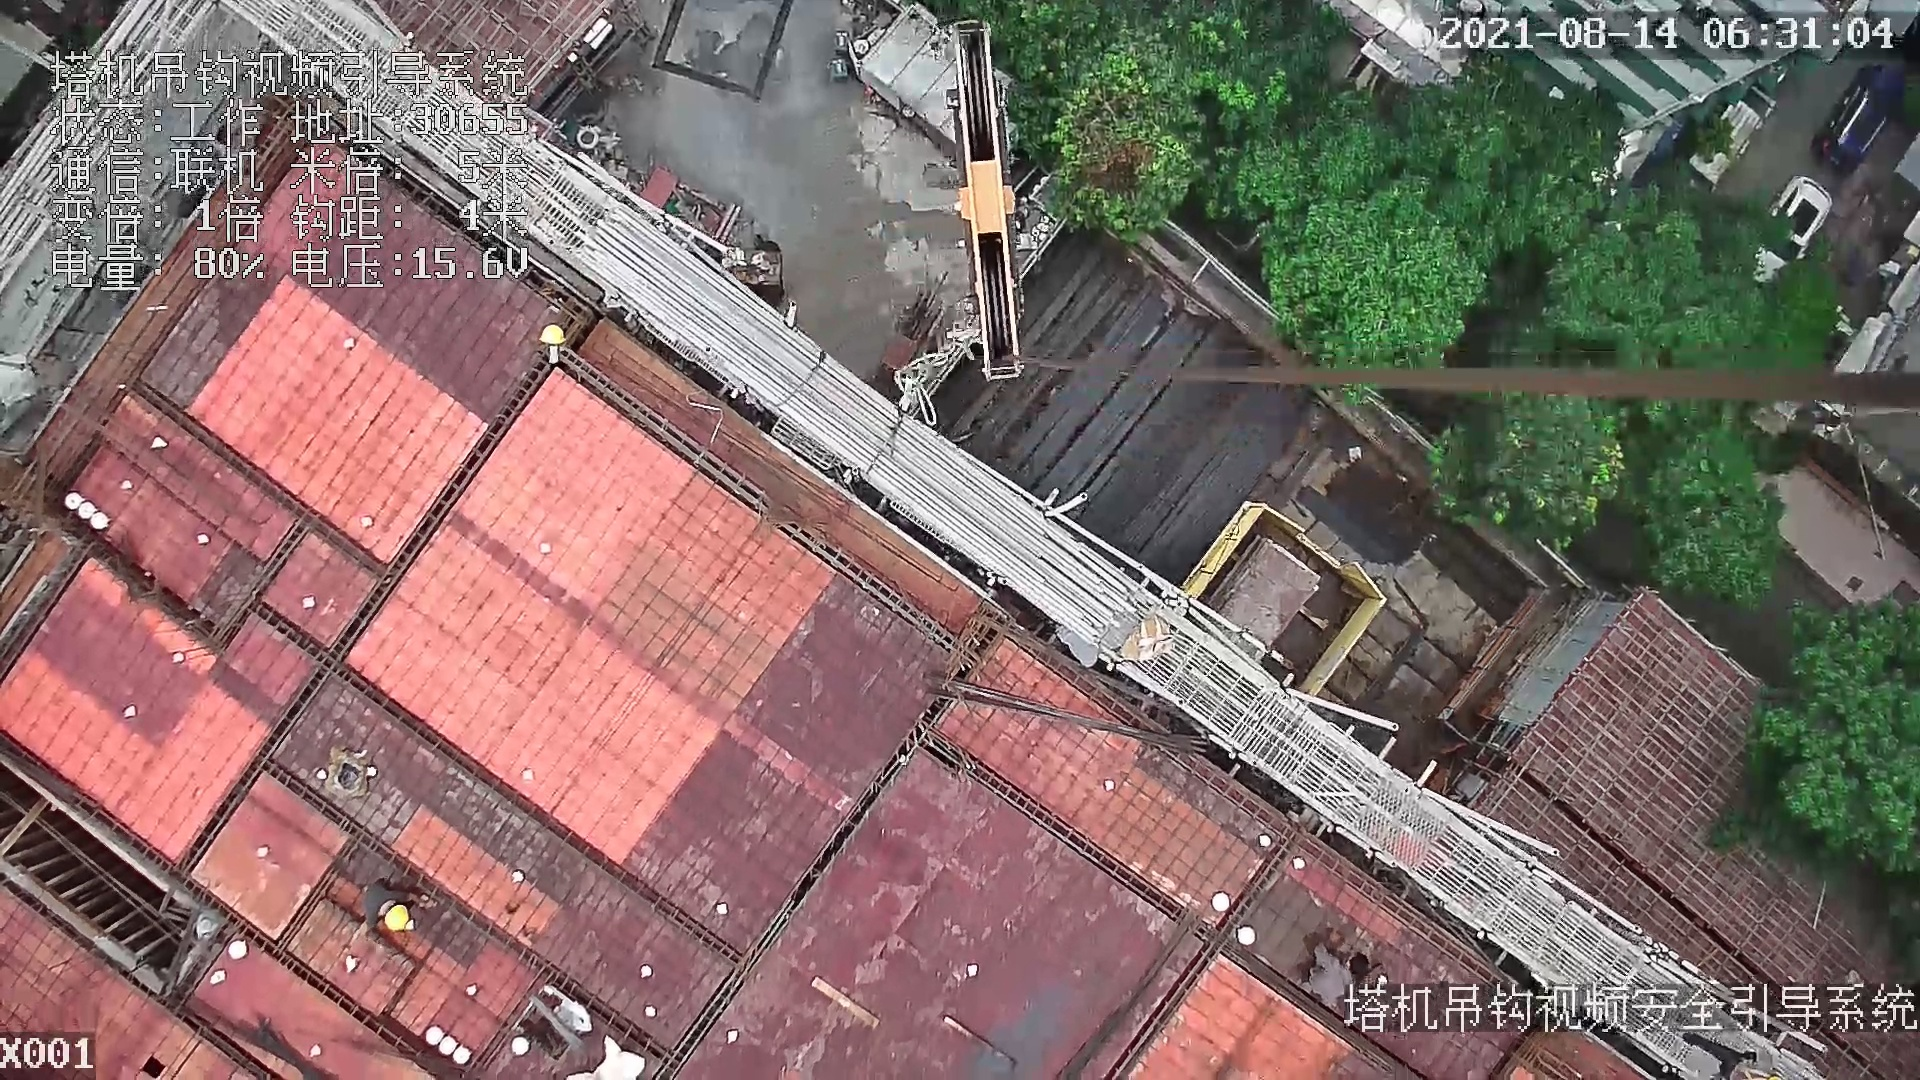helmet: (385, 904, 411, 933), (538, 321, 565, 346)
hook: (929, 19, 1033, 374)
person: (355, 881, 428, 936)
